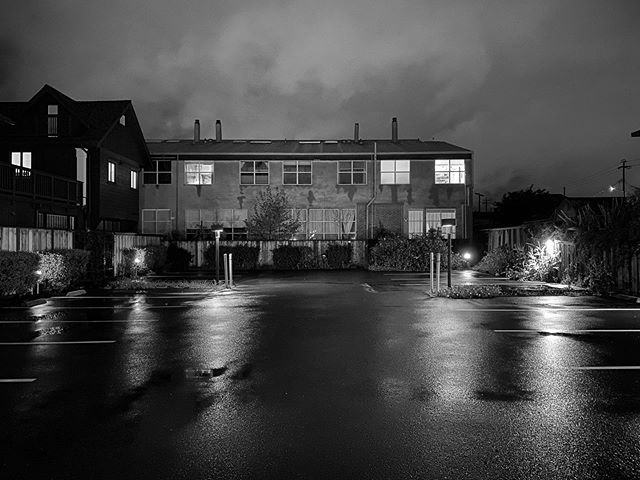building: (144, 141, 464, 252), (1, 94, 141, 229)
sky: (6, 1, 621, 144)
street: (6, 261, 640, 480)
